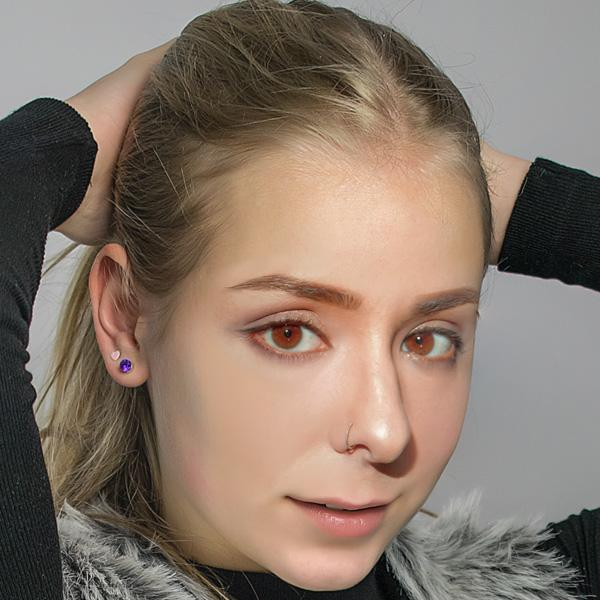Eyes: (236, 299, 341, 369), (393, 311, 466, 374)
